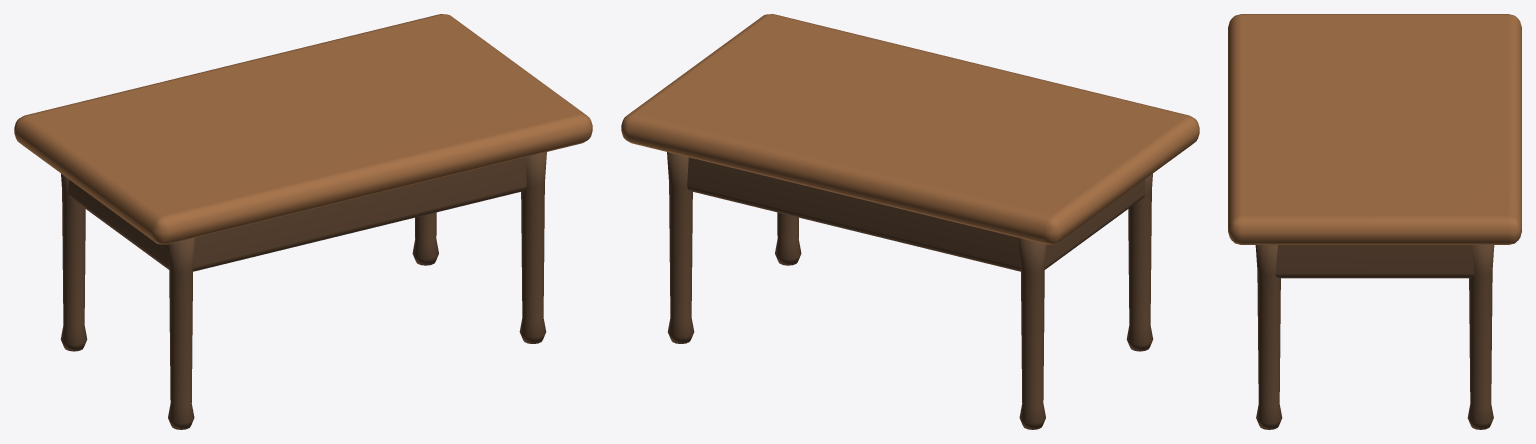
The model's file is table.glb.
3 renders of one model, left to right at view 1: azimuth 30°, elevation 25°; view 2: azimuth 150°, elevation 25°; view 3: azimuth 270°, elevation 25°, orthographic.
Parts seen in each view (by area): view 1: House_table; view 2: House_table; view 3: House_table.
Part boxes in pixels (<box>): House_table: <box>14,14,592,429</box>; House_table: <box>621,14,1199,429</box>; House_table: <box>1228,14,1521,429</box>.
Size of the model in its own units: 1.45 by 0.72 by 0.85.
